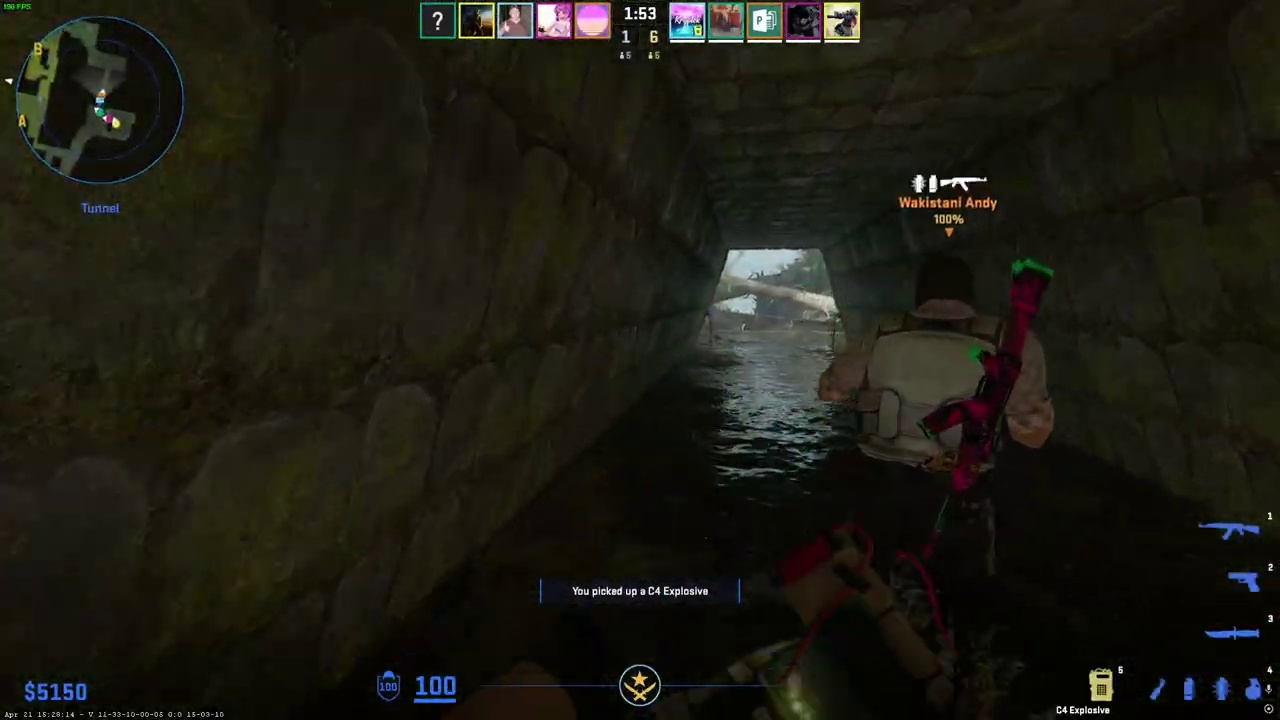Terrorist: (818, 257, 1049, 609)
